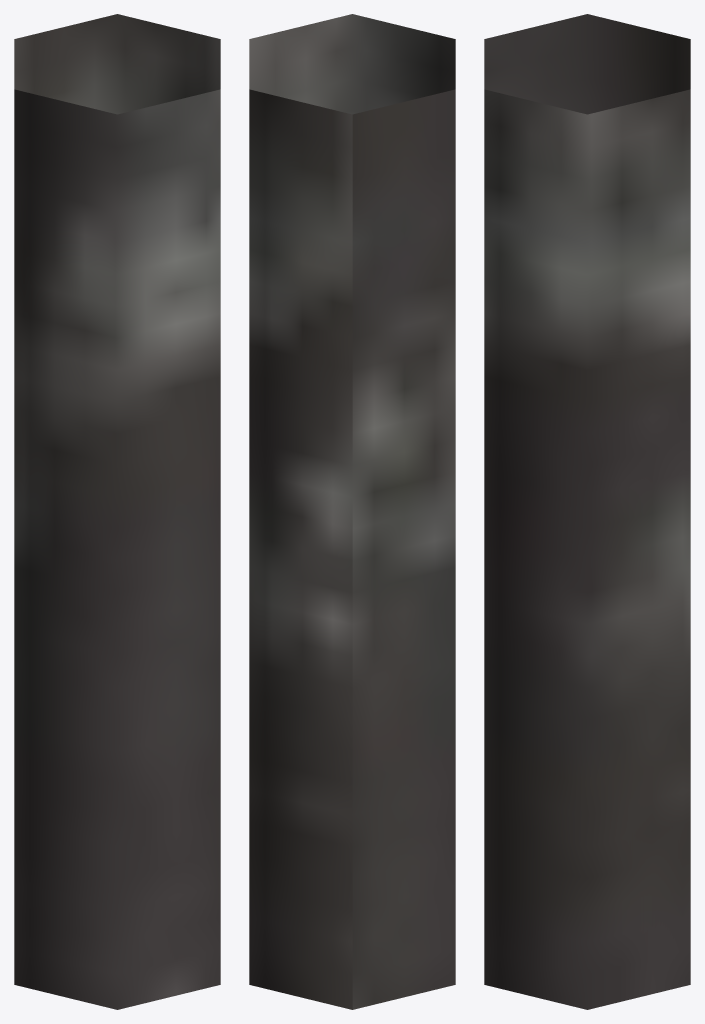
The model's file is ThickPipe_03.FBX.
3 views of the same model, side by side, from view 1: azimuth 30°, elevation 25°; view 2: azimuth 150°, elevation 25°; view 3: azimuth 270°, elevation 25° (orthographic).
Visible parts, largest first — view 1: ThickPipe_03; view 2: ThickPipe_03; view 3: ThickPipe_03.
Part boxes in pixels (x1,y1,x2,y2): ThickPipe_03: (14,14,220,1009); ThickPipe_03: (249,14,455,1009); ThickPipe_03: (484,14,690,1009).
Size of the model in its own units: 24 by 99.67 by 20.78.
